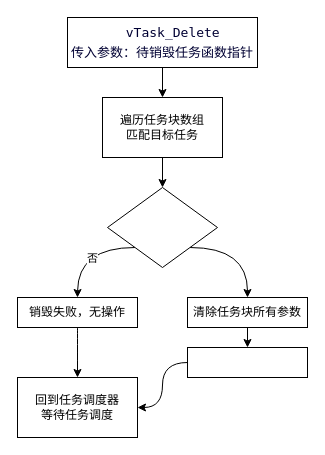
Some shapes in this 325 by 455 pixel diagram are drawn without their labels. Each missing label, with the centre of its shape:
"任务设为挂起状态，任务数-1" belongs at [247,362].
"是否找到目标任务？" belongs at [162,227].
